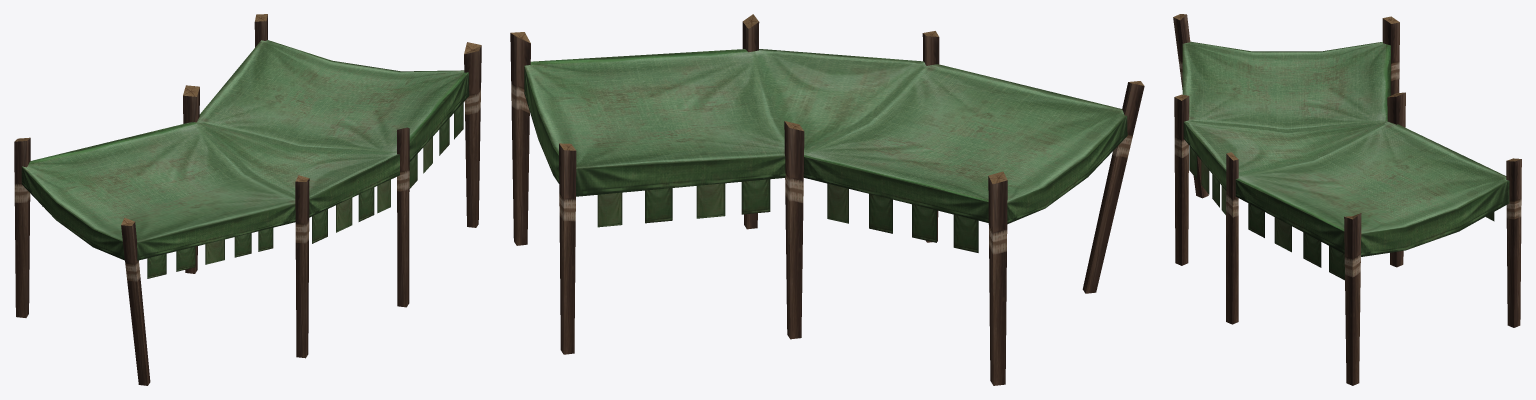
File: SV_AFT_desert_yupeng_1.FBX
3 views of the same model, side by side, from view 1: azimuth 30°, elevation 25°; view 2: azimuth 150°, elevation 25°; view 3: azimuth 270°, elevation 25° (orthographic). The views are drawn at different scales.
Parts seen in each view (by area): view 1: SV_AFT_desert_yupeng_1; view 2: SV_AFT_desert_yupeng_1; view 3: SV_AFT_desert_yupeng_1.
Part boxes in pixels (bbox=[...]): SV_AFT_desert_yupeng_1: bbox=[14, 14, 481, 385]; SV_AFT_desert_yupeng_1: bbox=[510, 14, 1144, 385]; SV_AFT_desert_yupeng_1: bbox=[1173, 14, 1521, 385].
Bounding box in the file's own units: 9.31 × 3.59 × 6.6.
